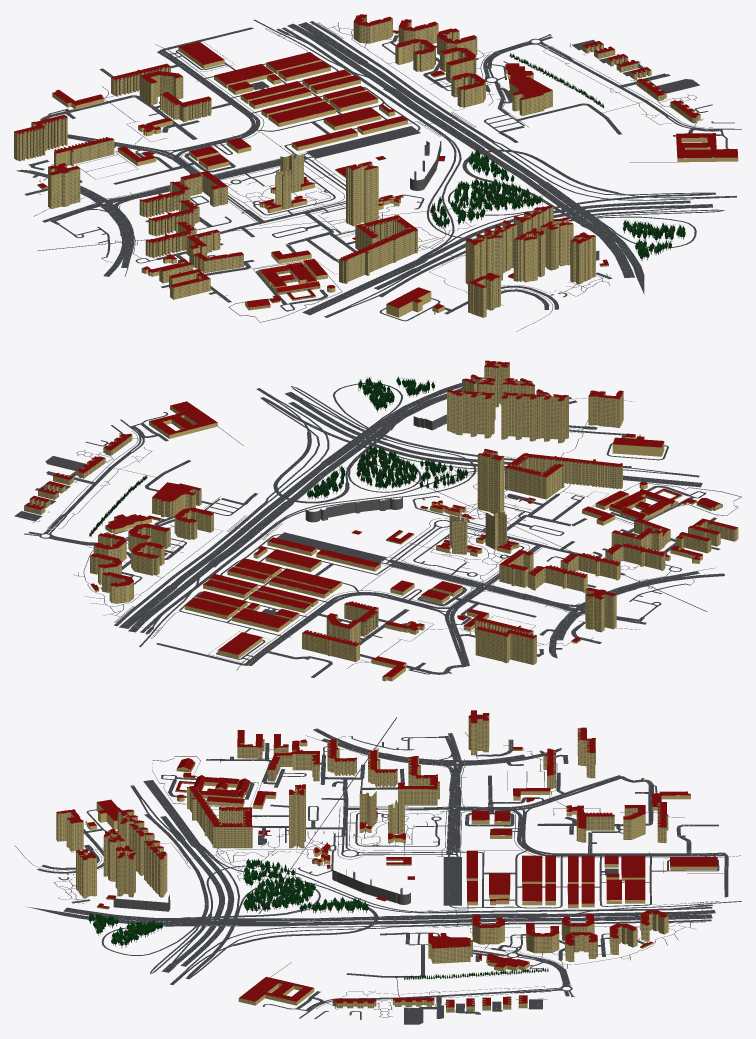
The model's file is osm3d.glb.
The picture shows the model from 3 angles, top to bottom: view 1: azimuth 30°, elevation 25°; view 2: azimuth 150°, elevation 25°; view 3: azimuth 270°, elevation 25°; orthographic projection. The views are drawn at different scales.
Parts seen in each view (by area): view 1: Plaster002, ASPHALT, RoofingTiles010, Windows, TextureAtlas 30f7a288, Concrete034; view 2: Plaster002, ASPHALT, RoofingTiles010, Windows, TextureAtlas 30f7a288, Concrete034; view 3: ASPHALT, Plaster002, RoofingTiles010, Windows, TextureAtlas 30f7a288, Concrete034.
Boxes of the visible parts, bbox=[...] form: Plaster002: bbox=[14, 15, 738, 317]; ASPHALT: bbox=[16, 19, 741, 321]; RoofingTiles010: bbox=[14, 14, 737, 310]; Windows: bbox=[14, 15, 700, 316]; TextureAtlas 30f7a288: bbox=[430, 53, 685, 260]; Concrete034: bbox=[39, 22, 659, 331]; Plaster002: bbox=[24, 362, 738, 681]; ASPHALT: bbox=[14, 377, 724, 677]; RoofingTiles010: bbox=[24, 360, 737, 677]; Windows: bbox=[24, 362, 738, 664]; TextureAtlas 30f7a288: bbox=[89, 376, 467, 537]; Concrete034: bbox=[52, 398, 694, 639]; ASPHALT: bbox=[26, 717, 741, 1024]; Plaster002: bbox=[56, 715, 717, 1012]; RoofingTiles010: bbox=[56, 710, 717, 1007]; Windows: bbox=[56, 712, 668, 1011]; TextureAtlas 30f7a288: bbox=[88, 858, 548, 979]; Concrete034: bbox=[14, 736, 705, 996].
Size of the model in its own units: 1295 by 104 by 1295.
20 materials, 19 textured.
